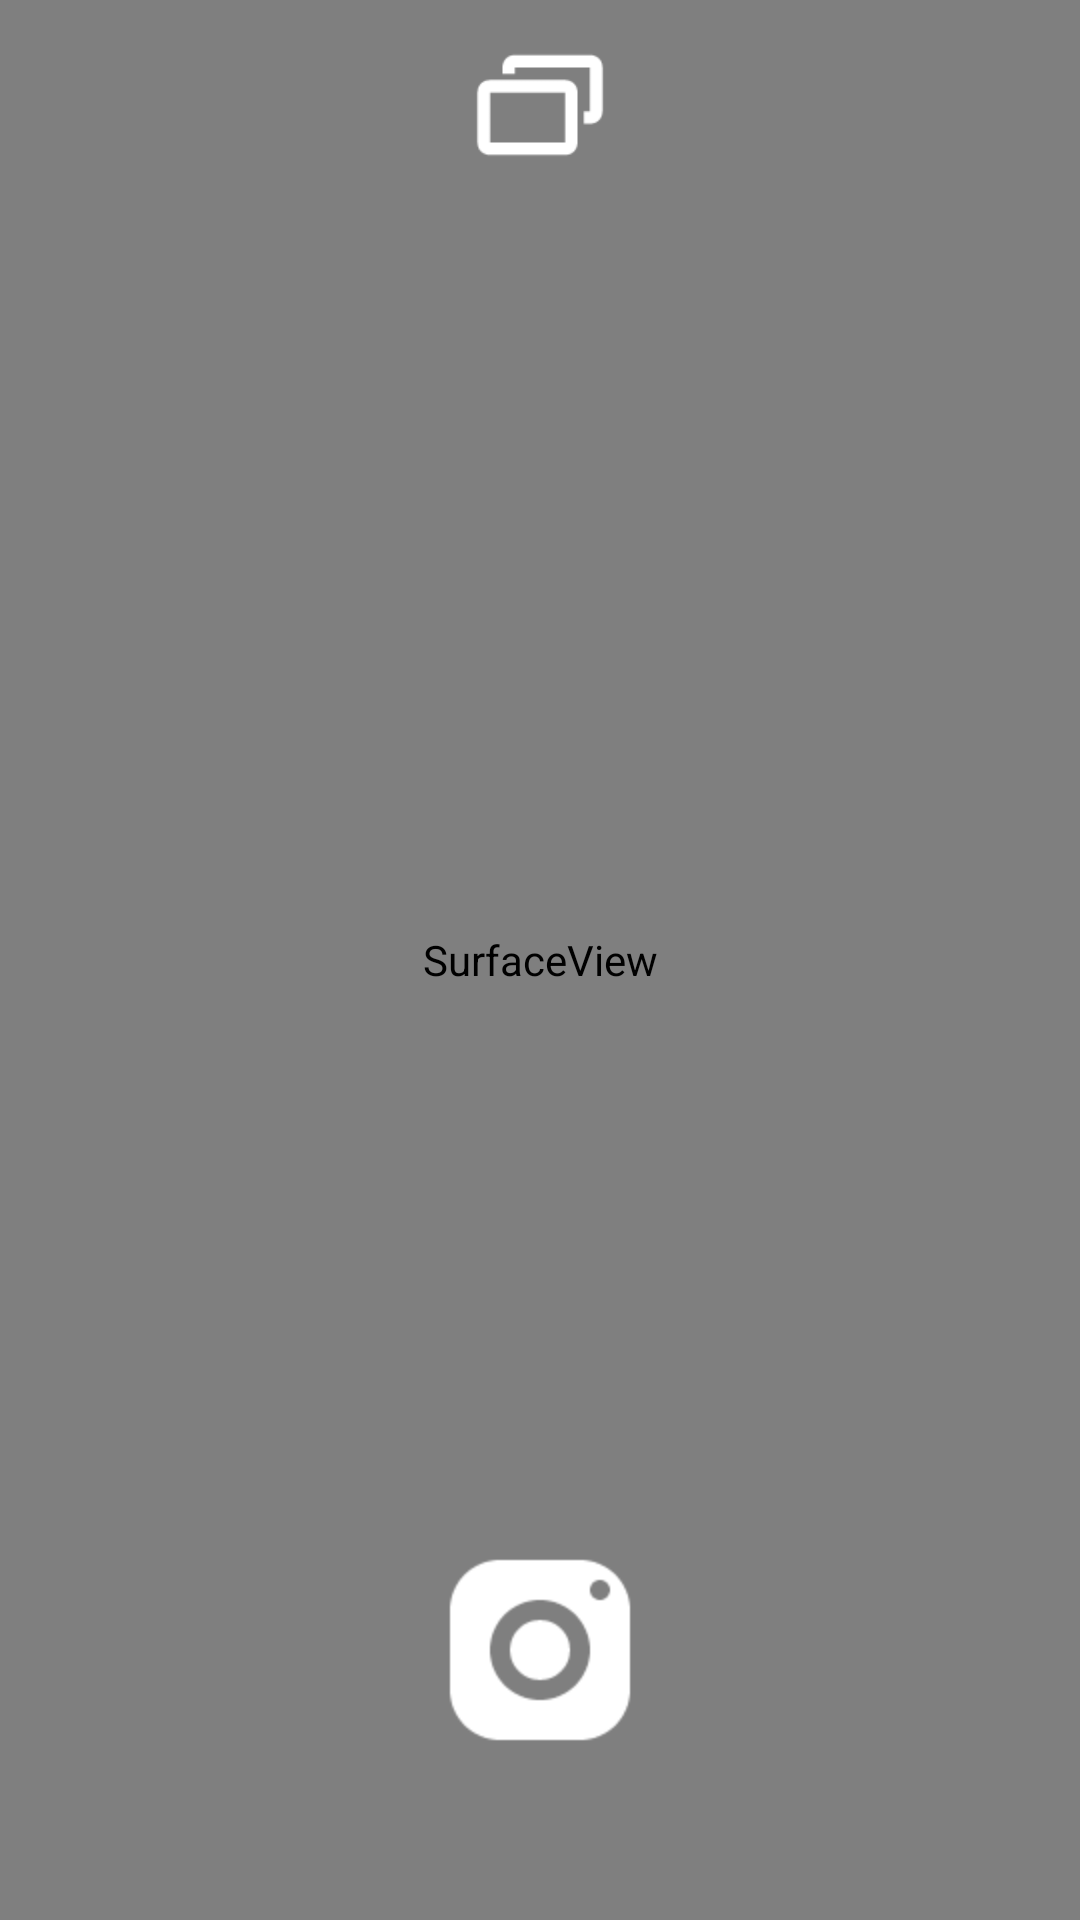

Point at icon controls on the screen. Image size 1080 × 1920, points as point (x, y).
gallery: point (540, 105)
